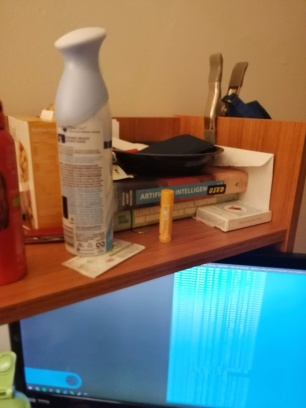chapstick: (156, 188, 175, 245)
